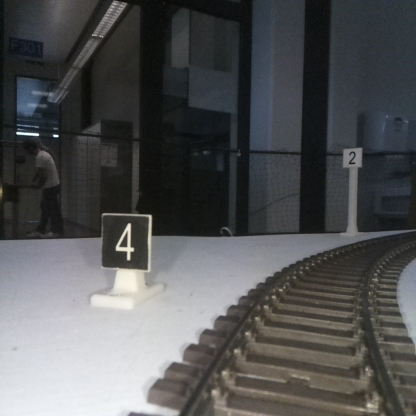black-stop-4: (101, 215, 148, 302)
white-info-2: (343, 148, 361, 235)
